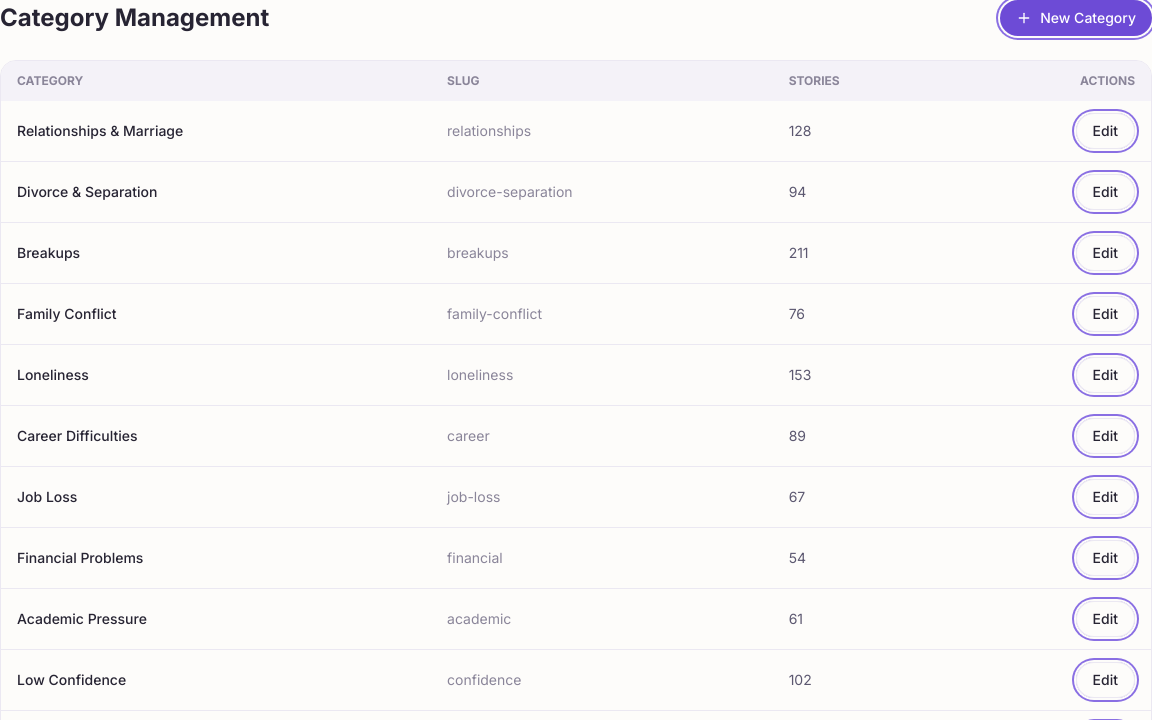
Test: CategoryManagementPage › lets an admin open the new-category dialog
Click the button "New Category". click: (1076, 18)
box: [1000,0,1151,36]
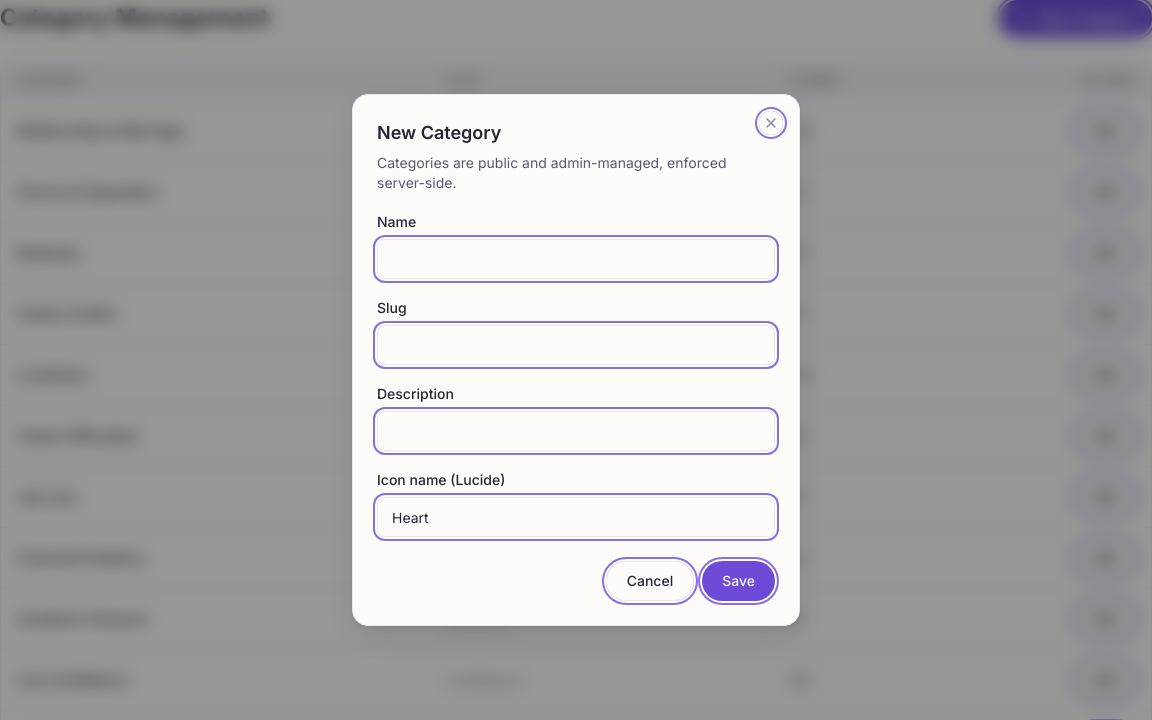
Check: the heading "New Category" is shown, box [377,122,501,143]
Check: the field labelled "Name" is shown, box [377,239,775,279]
